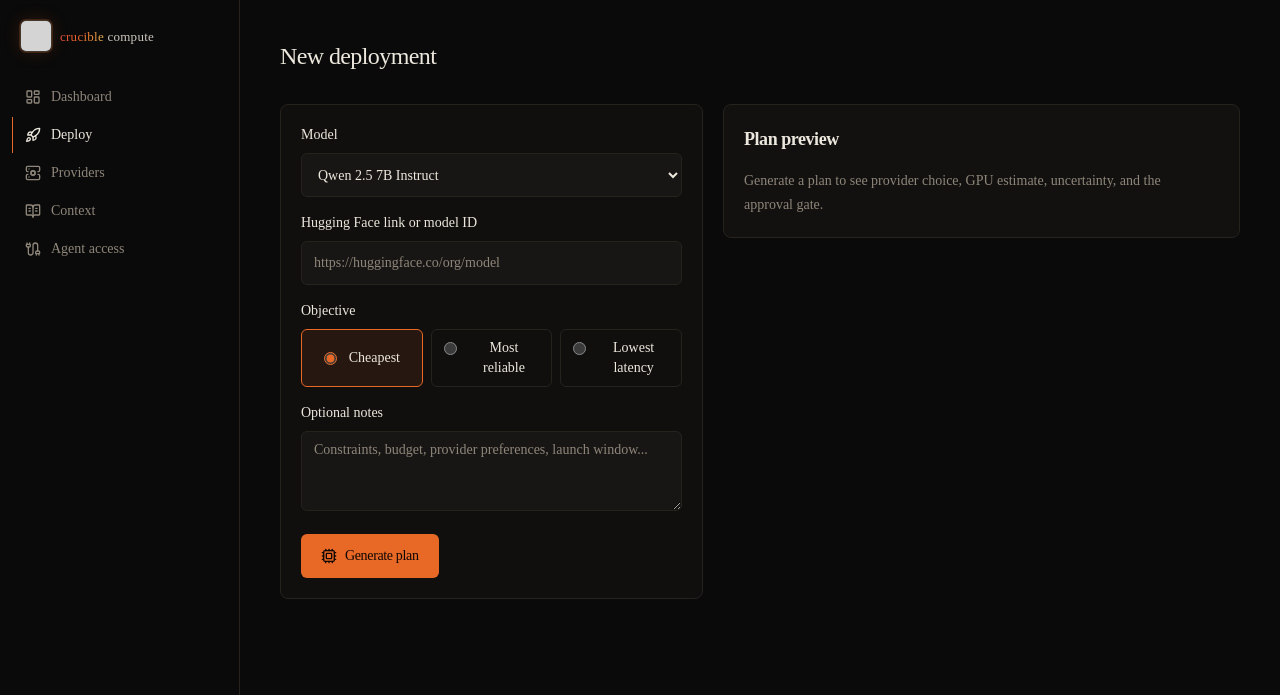
Test case: NewDeploymentPage › shows session memory insights when the plan used previous runs
Click the button "Generate plan": (370, 556) [301,534,439,578]
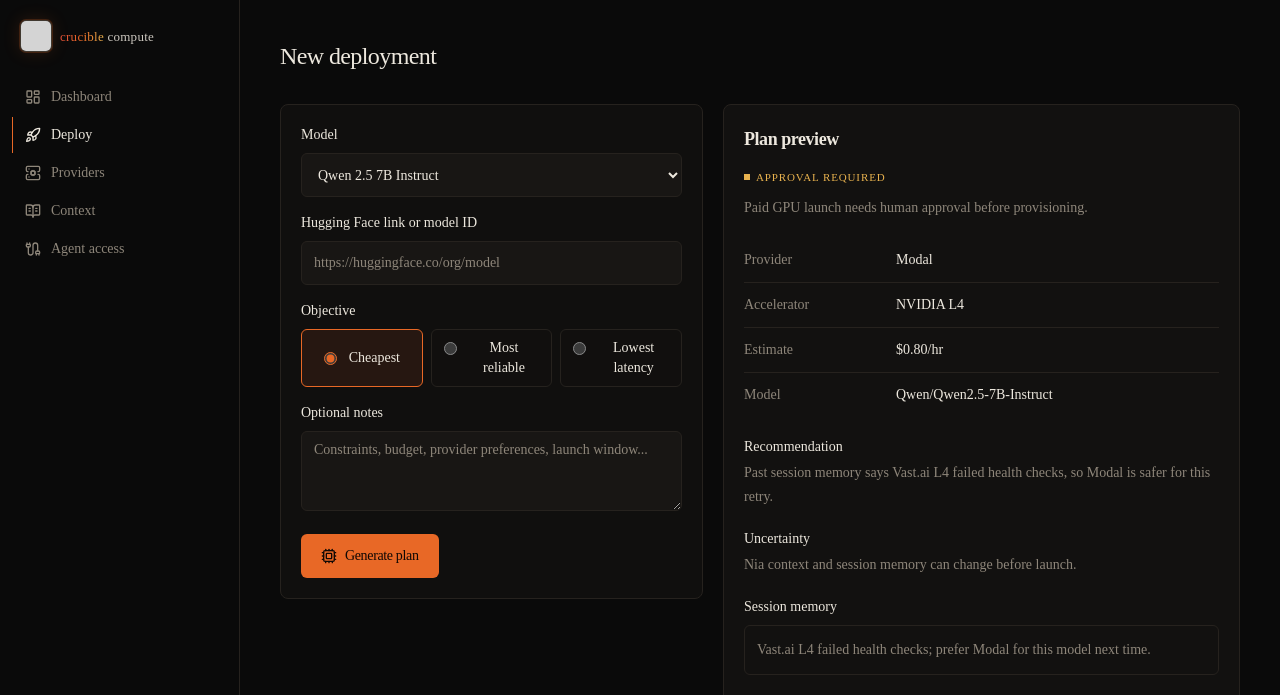
Expected: the heading "Session memory" is shown, [744,598,837,614]
Expected: the text "Vast.ai L4 failed health checks; prefer Modal for this model next time." is shown, [744,624,1219,674]
